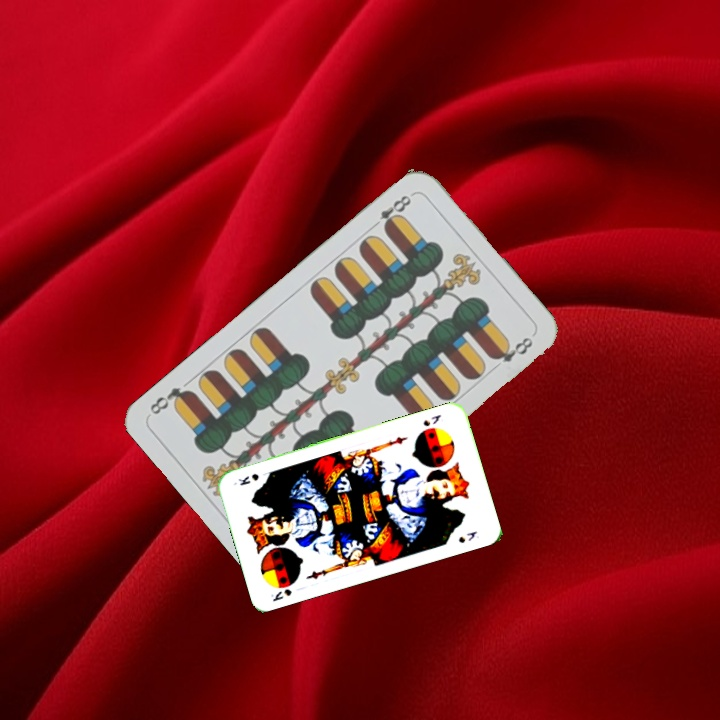E8: (367, 191, 414, 234)
SK: (266, 585, 294, 604), (419, 410, 444, 429)
